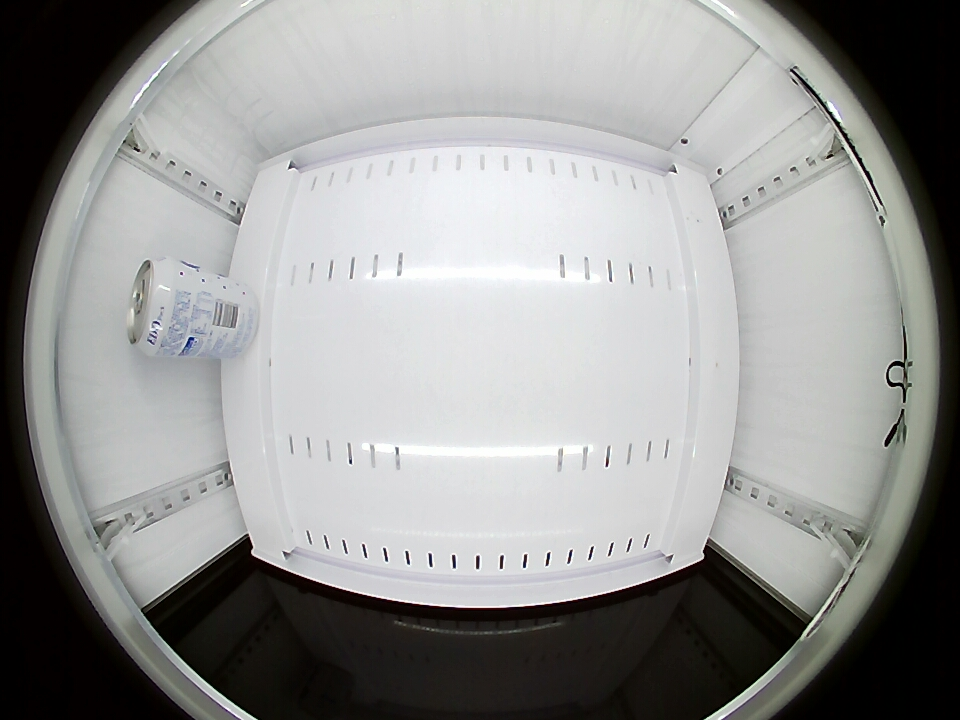rusuanjunqishui: (127, 257, 195, 357)
